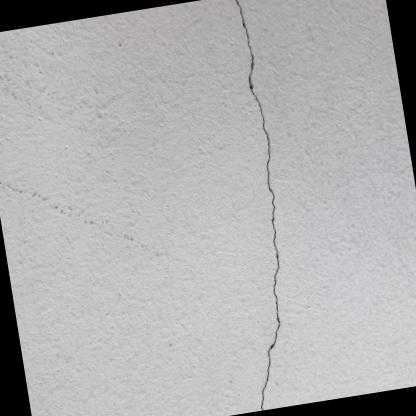crack: (234, 0, 279, 411)
